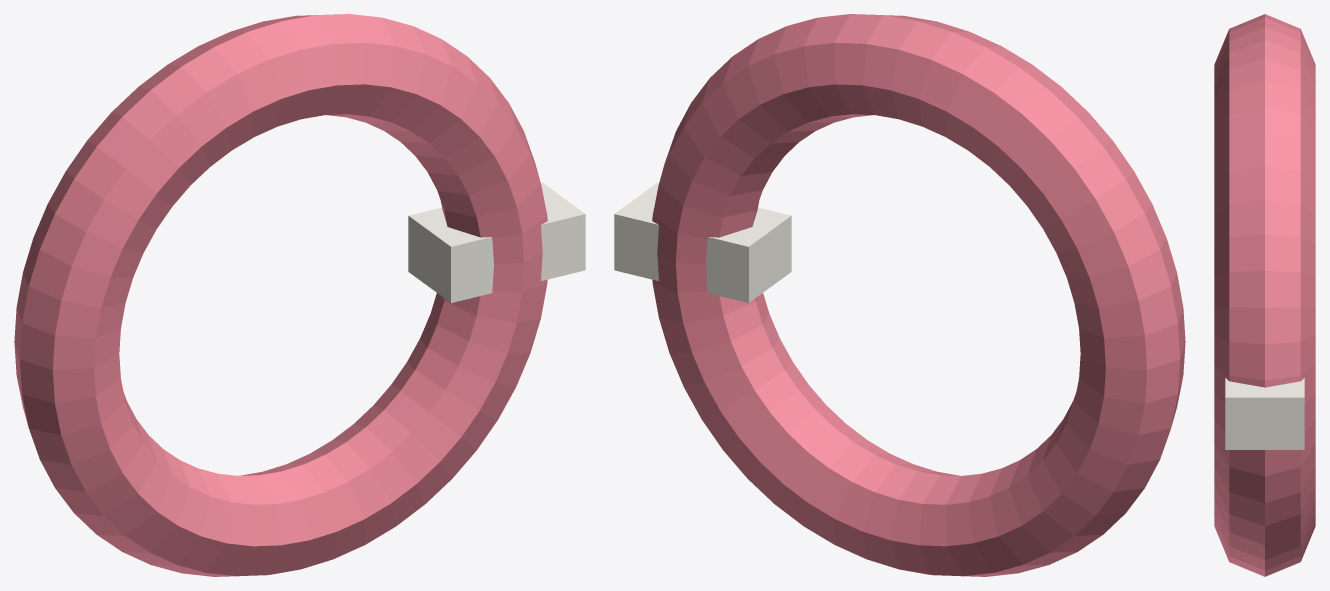
File: float_band_red_white_v1.glb
The picture shows the model from 3 angles, left to right: view 1: azimuth 30°, elevation 25°; view 2: azimuth 150°, elevation 25°; view 3: azimuth 270°, elevation 25°; orthographic projection. The views are drawn at different scales.
Parts seen in each view (by area): view 1: float_band_main_ring, white_band_patch_0, white_band_patch_1; view 2: float_band_main_ring, white_band_patch_0, white_band_patch_1; view 3: float_band_main_ring, white_band_patch_0, white_band_patch_1.
Part boxes in pixels (left/top/right/bottom): float_band_main_ring: left=14, top=14, right=547, bottom=576; white_band_patch_0: left=408, top=183, right=585, bottom=302; white_band_patch_1: left=408, top=183, right=585, bottom=301; float_band_main_ring: left=652, top=14, right=1185, bottom=576; white_band_patch_0: left=614, top=183, right=791, bottom=302; white_band_patch_1: left=614, top=184, right=790, bottom=302; float_band_main_ring: left=1214, top=14, right=1315, bottom=576; white_band_patch_0: left=1225, top=378, right=1304, bottom=449; white_band_patch_1: left=1225, top=378, right=1304, bottom=449.
Bounding box in the file's own units: 0.405 × 0.39 × 0.07.
